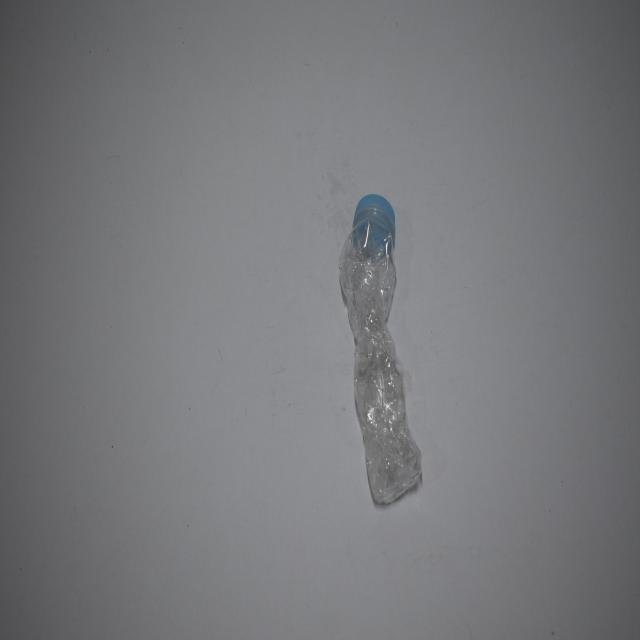bottle: (331, 171, 419, 519)
